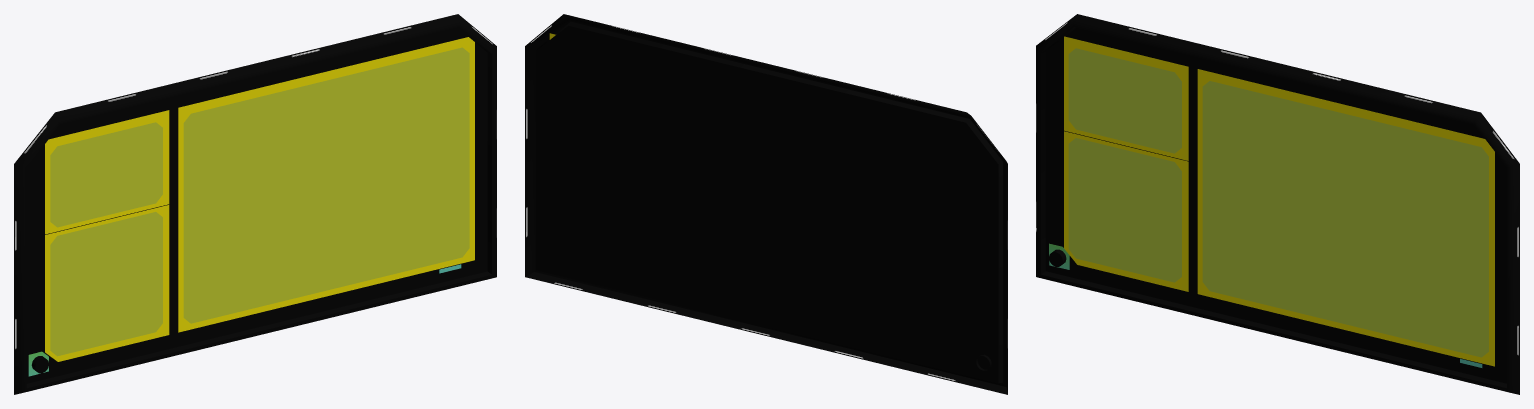
The model's file is SM0170_Lobby_SettingsPanel_01.fbx.
3 views of the same model, side by side, from view 1: azimuth 30°, elevation 25°; view 2: azimuth 150°, elevation 25°; view 3: azimuth 330°, elevation 25° (orthographic).
Visible parts, largest first — view 1: SM0170_Lobby_SettingsPanel_01; view 2: SM0170_Lobby_SettingsPanel_01; view 3: SM0170_Lobby_SettingsPanel_01.
Boxes of the visible parts, bbox=[...] form: SM0170_Lobby_SettingsPanel_01: bbox=[14, 14, 496, 394]; SM0170_Lobby_SettingsPanel_01: bbox=[525, 14, 1007, 394]; SM0170_Lobby_SettingsPanel_01: bbox=[1036, 14, 1519, 394].
Size of the model in its own units: 1796 by 32.65 by 969.
